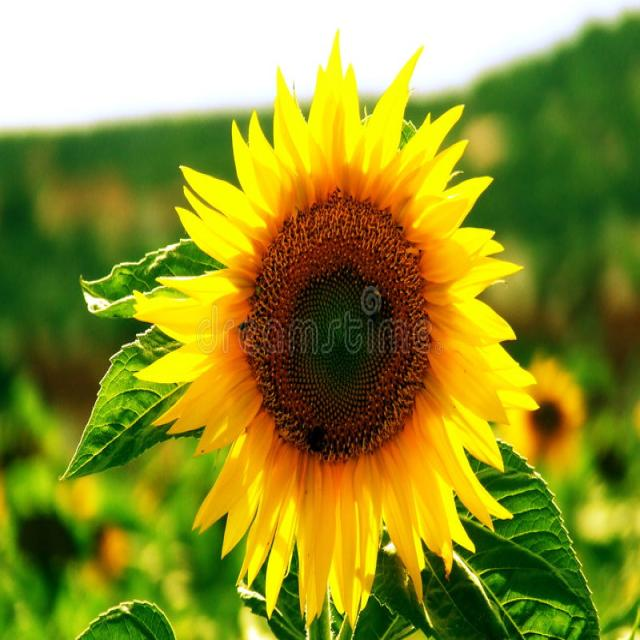sunflower: (113, 44, 545, 640), (506, 351, 584, 482)
